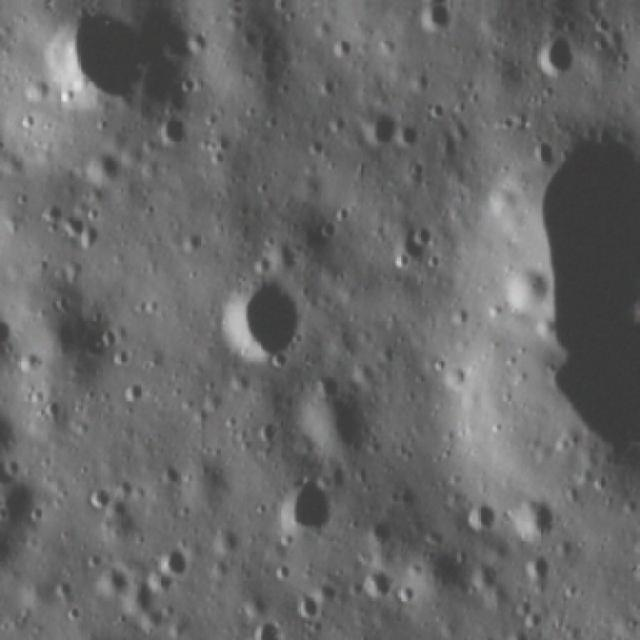crater: (495, 119, 637, 458), (49, 5, 162, 101), (210, 258, 304, 360), (298, 375, 380, 462), (285, 468, 341, 534), (528, 28, 588, 74), (509, 485, 557, 537), (362, 94, 413, 140), (359, 562, 413, 601), (416, 0, 467, 38), (155, 537, 203, 575), (466, 493, 502, 533)
